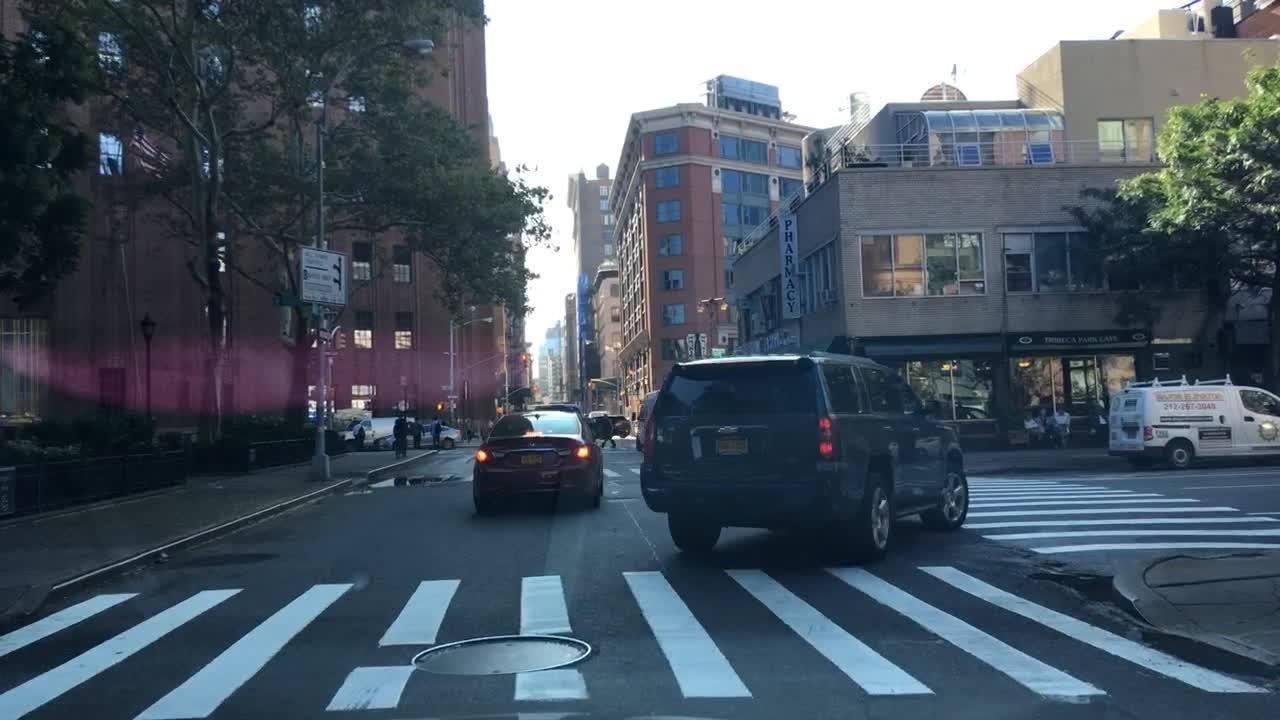chevrolet: (716, 423, 747, 437)
